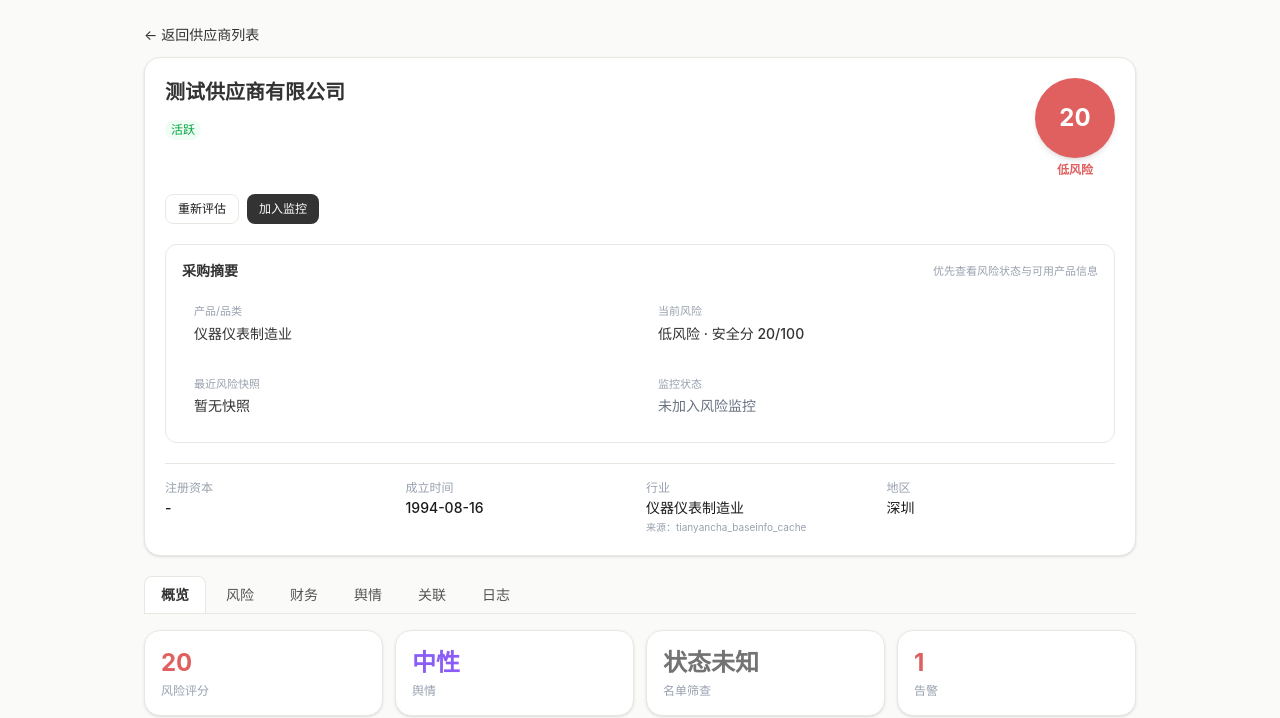
Test: SupplierProfilePage › shows sentiment article summaries and original links in the supplier profile
Expected: the heading "测试供应商有限公司" is shown, [165,80,345,104]
Step 1. Click the button "舆情" → (368, 594), box [338,576,398,613]
(page scrolled)
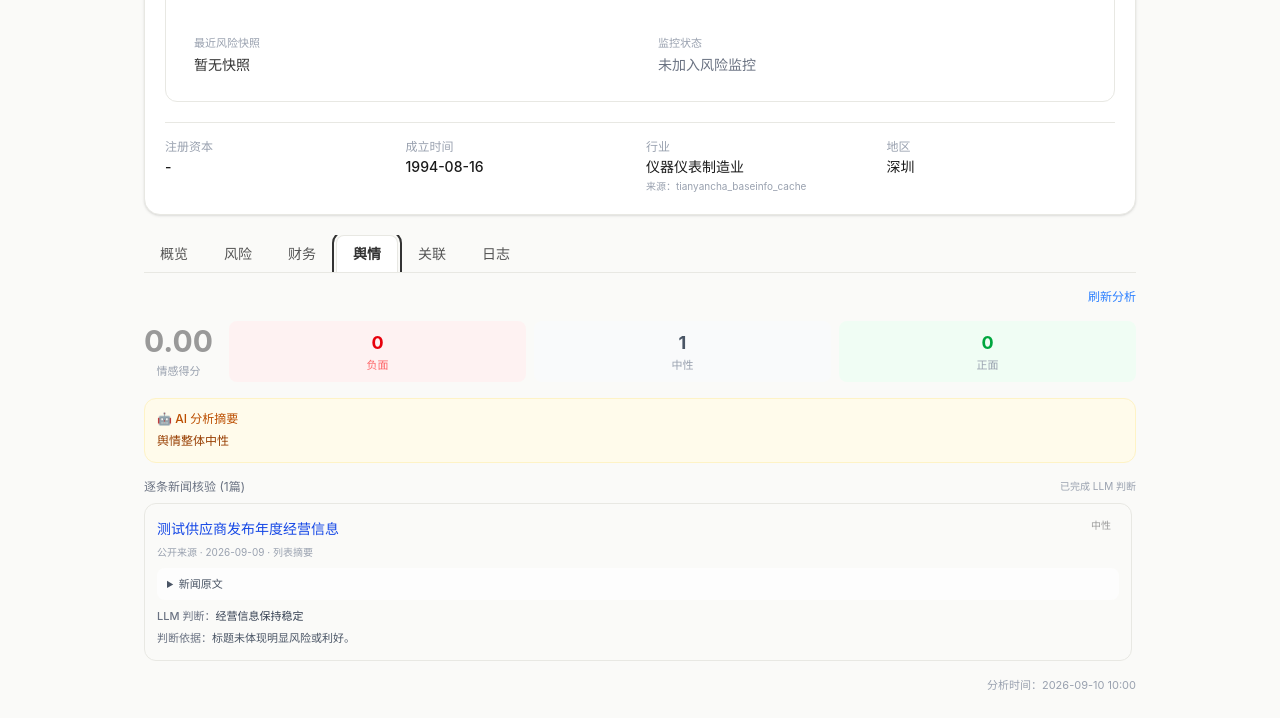
Expected: the link "测试供应商发布年度经营信息" is shown, [157,520,339,537]
Expected: the text "经营信息保持稳定" is shown, [215,609,303,623]
